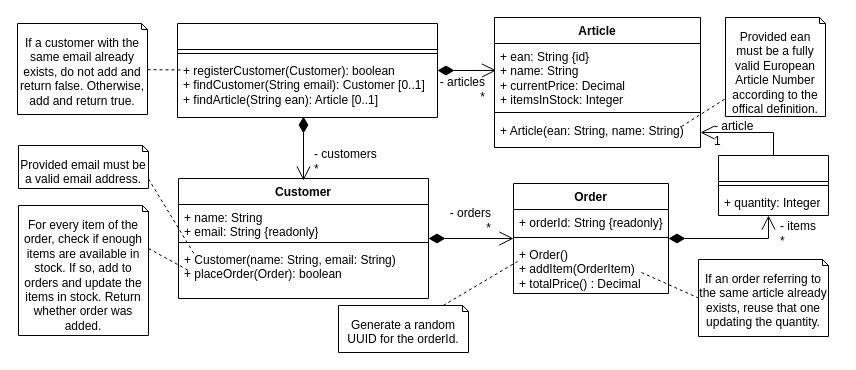
Image size: 856x370. Some labels were removed from this diagram. Here are the shapes that lost their labels. From the top down, the box of each, then its label:
(176, 22, 438, 118): Shop
(718, 154, 828, 216): OrderItem
